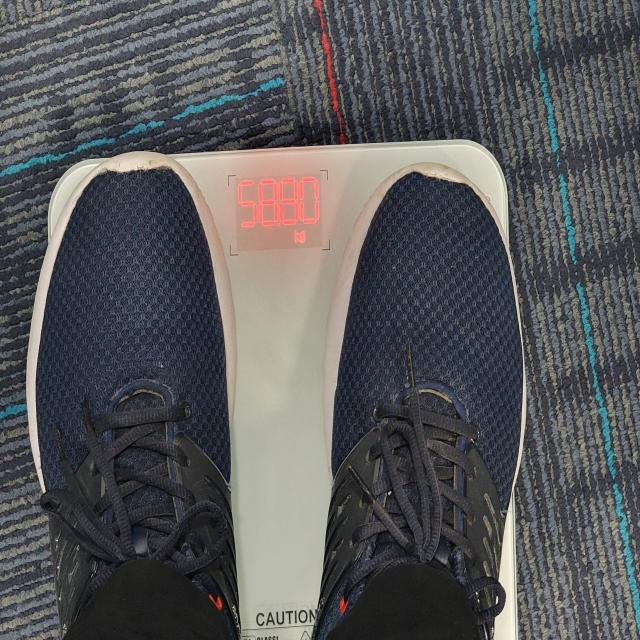ws: (0, 140, 524, 640)
